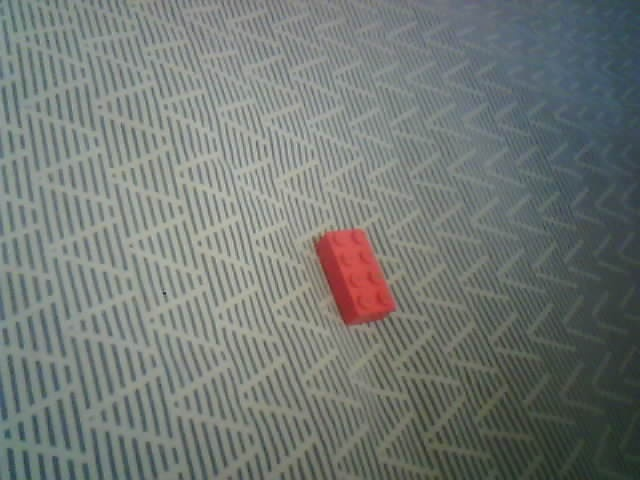lego: (316, 228, 398, 325)
